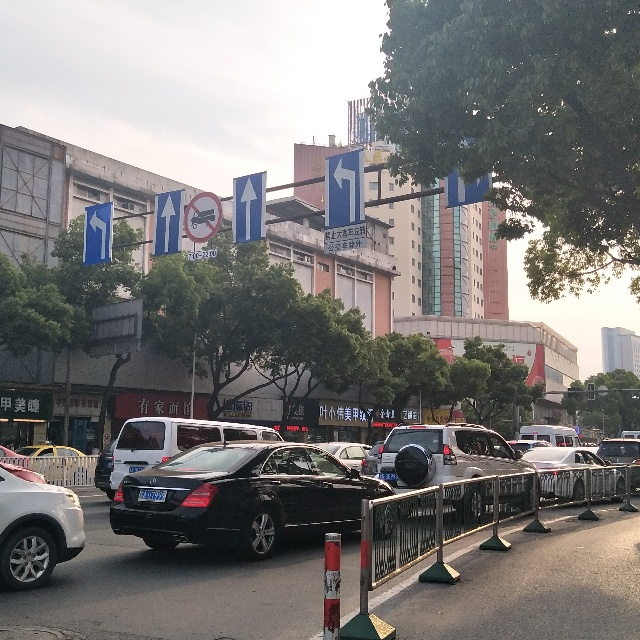left: (324, 158, 358, 226), (88, 206, 115, 261)
straight: (230, 178, 260, 246), (150, 186, 178, 251)
